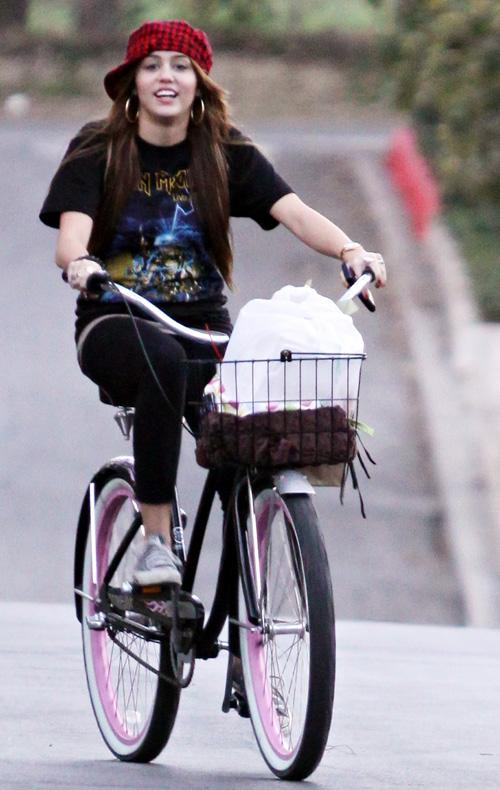person: (40, 18, 388, 725)
